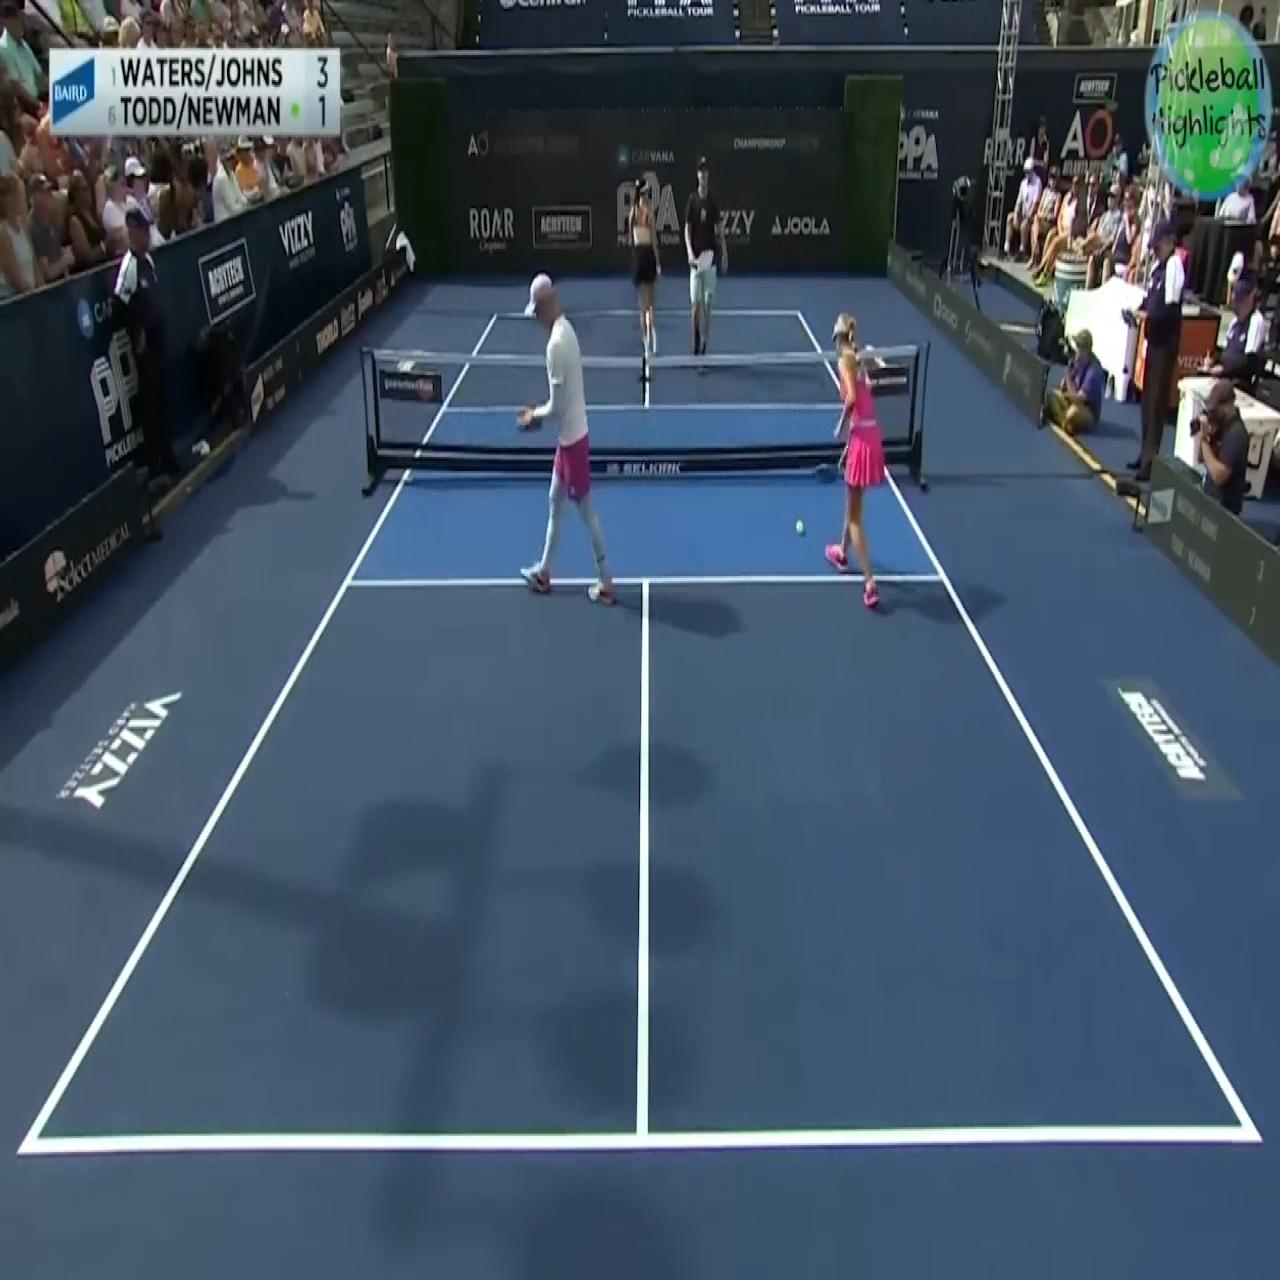Pickleball: (794, 516, 806, 538)
